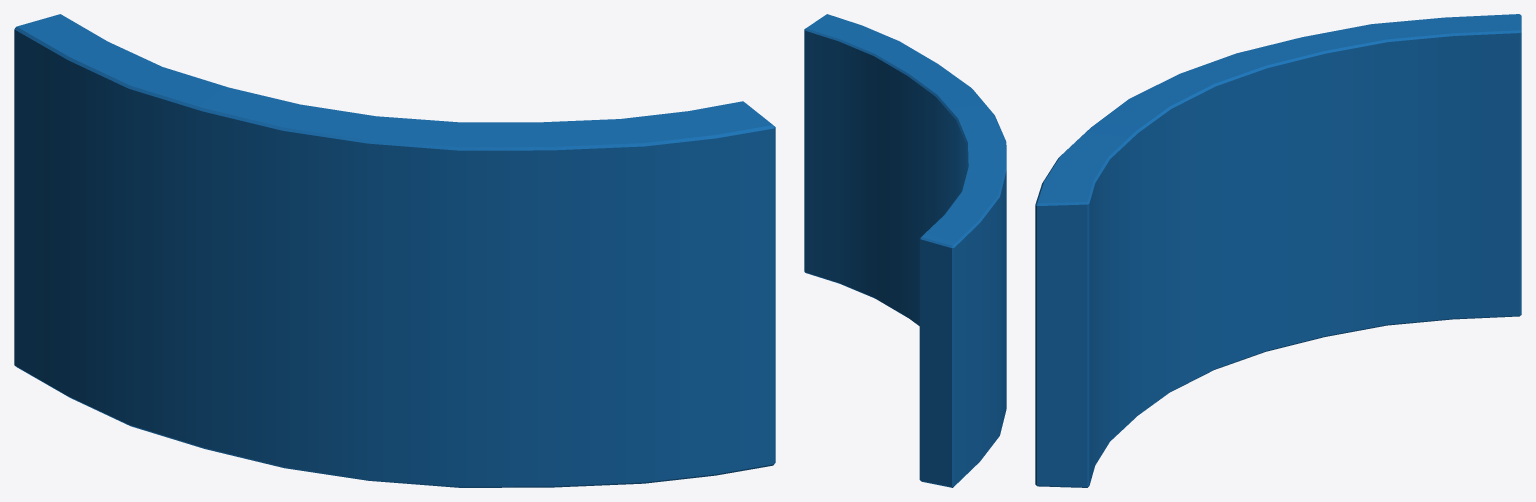
File: Edge_Turn_90_03.fbx
3 views of the same model, side by side, from view 1: azimuth 30°, elevation 25°; view 2: azimuth 150°, elevation 25°; view 3: azimuth 270°, elevation 25° (orthographic). The views are drawn at different scales.
Visible parts, largest first — view 1: Edge_Turn_90_03; view 2: Edge_Turn_90_03; view 3: Edge_Turn_90_03.
Boxes of the visible parts, x1,y1,x2,y2 form: Edge_Turn_90_03: [14, 14, 775, 487]; Edge_Turn_90_03: [804, 14, 1006, 487]; Edge_Turn_90_03: [1035, 14, 1521, 487].
Size of the model in its own units: 4.2 by 2.93 by 4.52.
